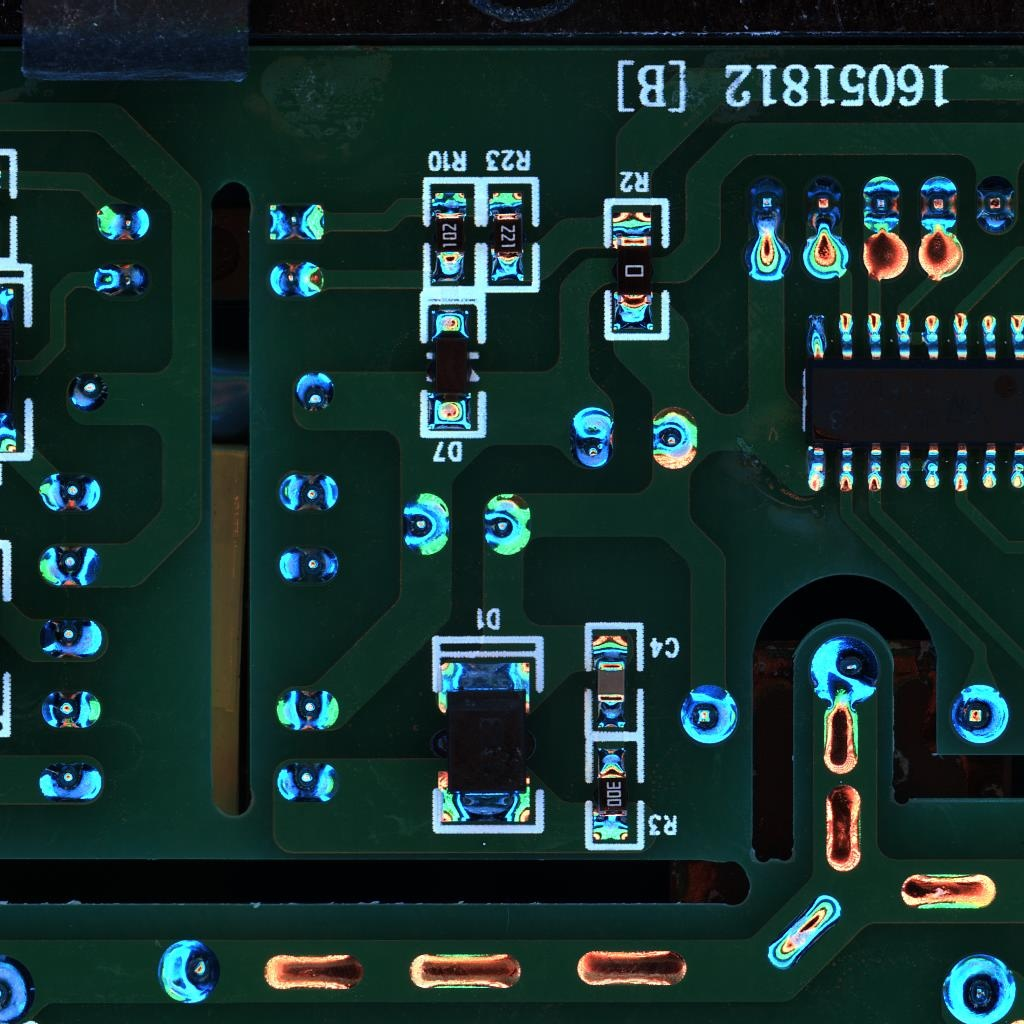spot: (938, 953, 1020, 1024), (806, 634, 884, 708), (155, 937, 222, 1006), (675, 682, 740, 747), (949, 680, 1012, 747), (480, 489, 534, 561), (646, 403, 700, 473), (401, 490, 452, 560), (34, 541, 104, 588), (271, 687, 343, 730), (36, 617, 106, 660), (1, 949, 41, 1024), (34, 471, 103, 514), (275, 470, 340, 515), (275, 760, 340, 805), (569, 406, 615, 469), (745, 171, 790, 233), (276, 544, 342, 586), (38, 689, 104, 731), (34, 761, 102, 800), (862, 174, 902, 239), (974, 172, 1015, 235), (918, 173, 958, 237), (801, 173, 843, 231), (266, 260, 326, 300), (266, 200, 323, 242), (93, 202, 152, 242), (90, 263, 150, 299), (66, 369, 112, 413), (293, 370, 338, 412)
